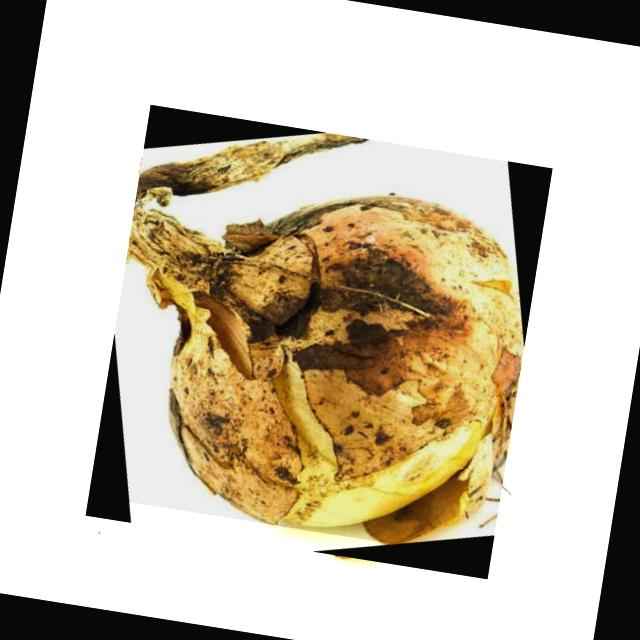rotten: (127, 133, 521, 544)
